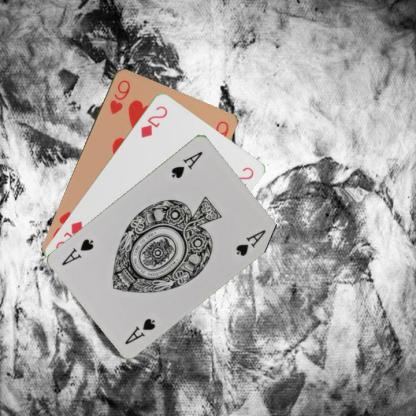2d: (138, 102, 168, 140)
9h: (106, 77, 132, 115)
As: (168, 148, 204, 179), (122, 315, 157, 345)
